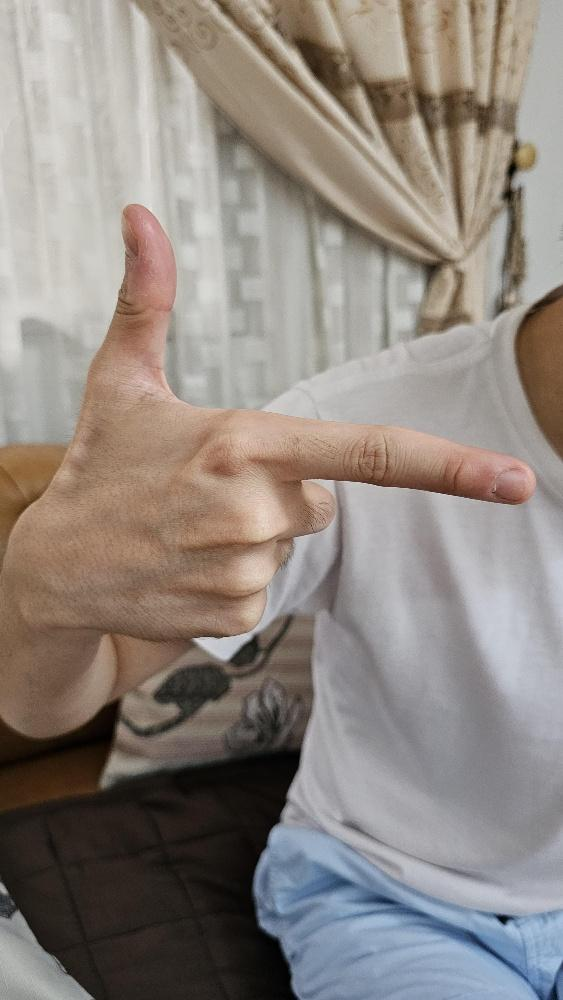g: (10, 199, 539, 645)
